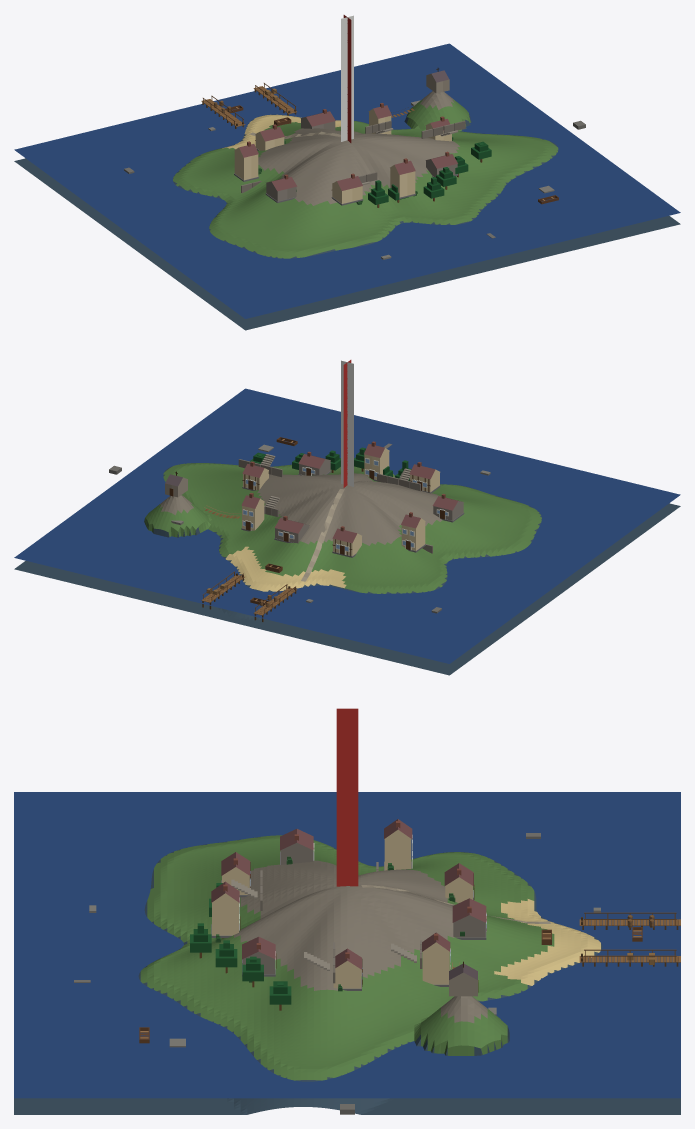
The model's file is scene_bad_v4_ring.obj.
3 views of the same model, one above another, from view 1: azimuth 30°, elevation 25°; view 2: azimuth 150°, elevation 25°; view 3: azimuth 270°, elevation 25° (orthographic). The views are drawn at different scales.
Parts seen in each view (by area): view 1: water, terrain, lighthouse_tower, house_6_two_story, house_3_two_story, house_4_timber, house_5_stone, house_7_timber, house_8_stone, house_2_stone; view 2: water, terrain, lighthouse_tower, house_6_two_story, house_3_two_story, house_9_two_story, house_7_timber, house_8_stone, house_4_timber, house_5_stone, house_2_stone, house_1_timber (+2 smaller); view 3: water, terrain, lighthouse_tower, house_3_two_story, house_9_two_story, house_6_two_story, house_8_stone, pier_2, house_5_stone, house_1_timber, house_7_timber, pier_1 (+3 smaller).
Boxes of the visible parts, x1,y1,x2,y2 form: water: (14, 43, 680, 318); terrain: (14, 91, 680, 330); lighthouse_tower: (341, 15, 353, 142); house_6_two_story: (234, 141, 258, 181); house_3_two_story: (390, 158, 415, 199); house_4_timber: (331, 173, 363, 205); house_5_stone: (265, 174, 297, 202); house_7_timber: (255, 124, 284, 150); house_8_stone: (300, 109, 335, 130); house_2_stone: (425, 151, 458, 177); water: (14, 388, 680, 663); terrain: (14, 463, 680, 675); lighthouse_tower: (341, 360, 353, 487); house_6_two_story: (401, 512, 425, 552); house_3_two_story: (364, 441, 389, 481); house_9_two_story: (241, 493, 264, 531); house_7_timber: (332, 526, 361, 557); house_8_stone: (274, 516, 309, 543); house_4_timber: (409, 462, 440, 493); house_5_stone: (432, 494, 464, 522); house_2_stone: (298, 451, 331, 475); house_1_timber: (242, 461, 268, 490); water: (14, 792, 680, 1098); terrain: (14, 835, 680, 1114); lighthouse_tower: (336, 708, 358, 886); house_3_two_story: (211, 881, 240, 937); house_9_two_story: (422, 932, 450, 986); house_6_two_story: (384, 819, 412, 870); house_8_stone: (452, 898, 486, 939); pier_2: (579, 949, 680, 966); house_5_stone: (280, 829, 314, 864); house_1_timber: (333, 948, 362, 990); house_7_timber: (444, 863, 474, 902); pier_1: (579, 912, 680, 929).
Size of the model in its own units: 104 by 38.5 by 92.
